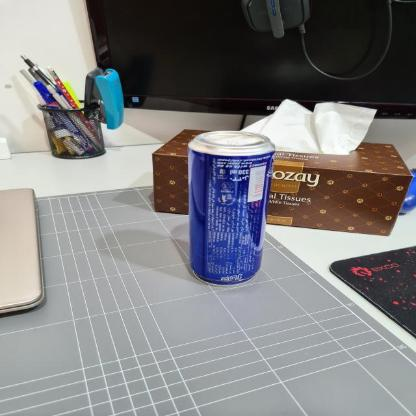Can: (186, 130, 274, 286)
